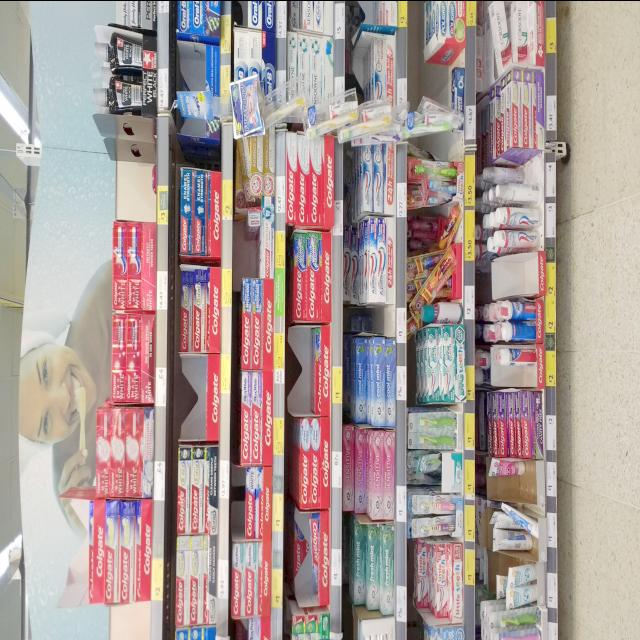empty_space: (109, 158, 151, 213)
